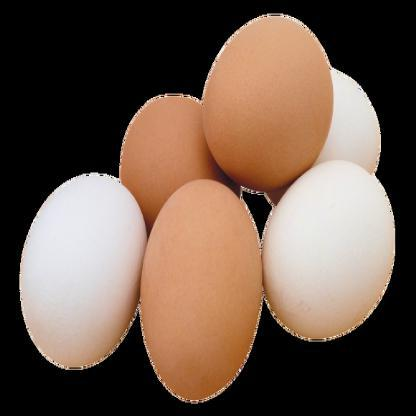egg: (250, 138, 404, 348), (138, 157, 262, 415), (8, 167, 151, 378), (195, 16, 342, 186), (97, 73, 249, 227)
